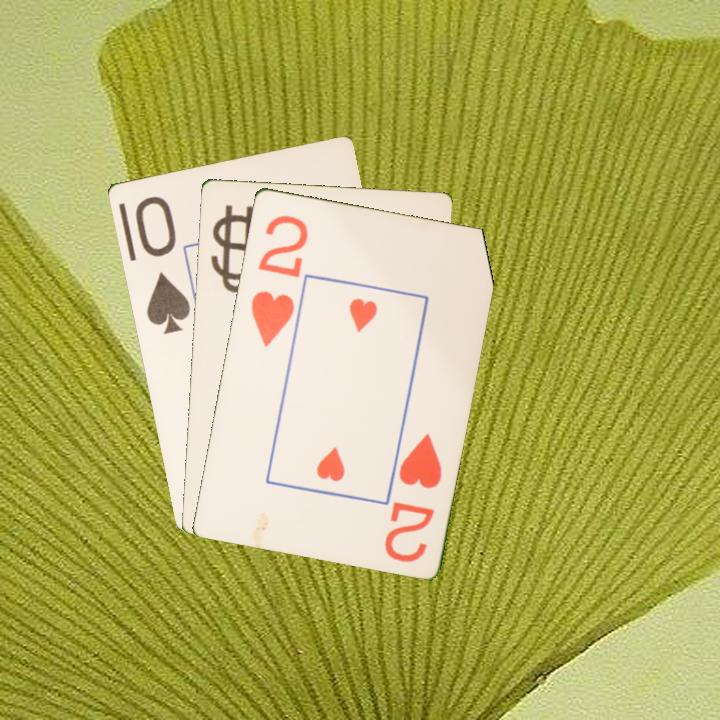10s: (131, 192, 193, 337)
2h: (247, 211, 311, 350), (380, 429, 445, 565)
JK: (214, 216, 250, 289)
